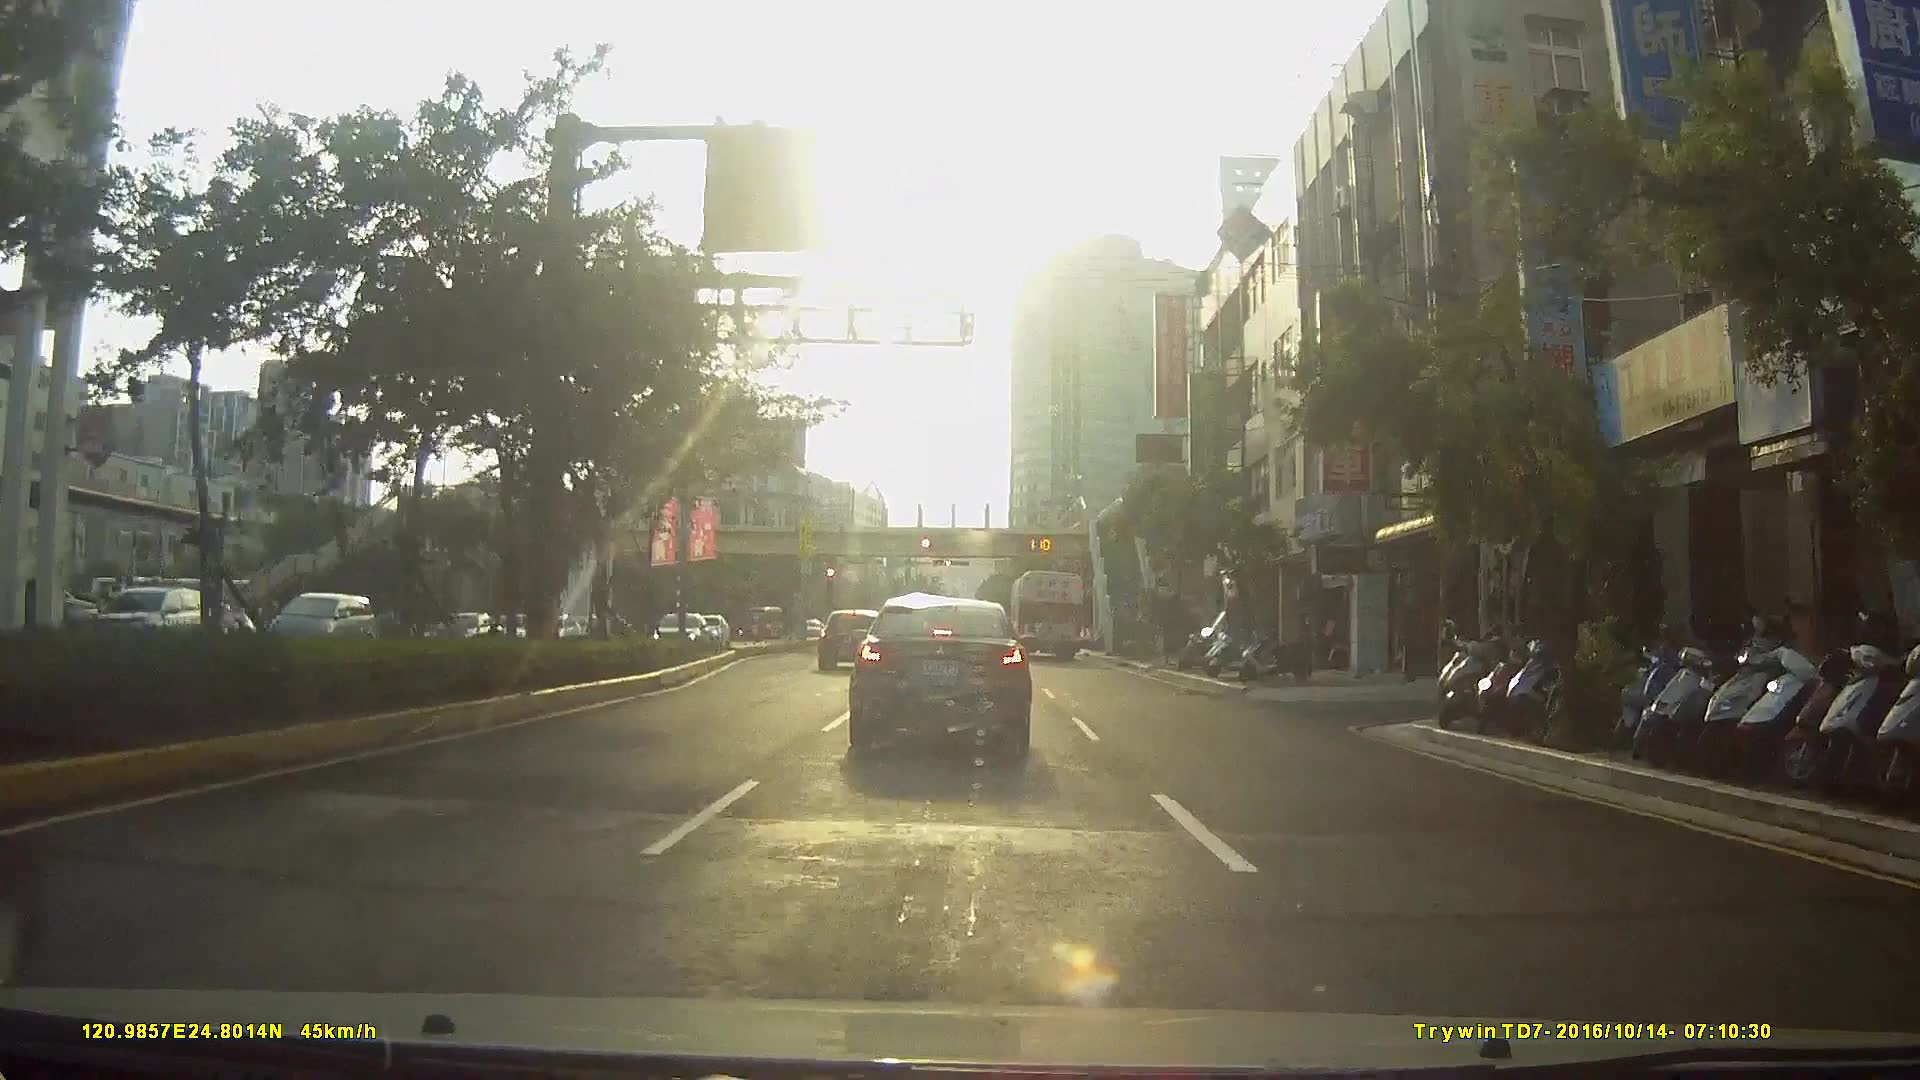vehicle: (847, 593, 1033, 757), (18, 525, 135, 683), (1006, 566, 1087, 662), (261, 589, 373, 653), (818, 605, 886, 674), (647, 609, 708, 651)
